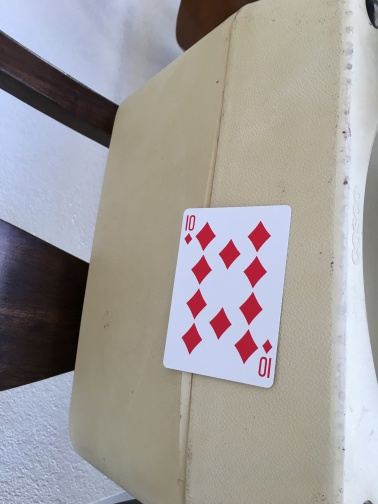ten: (162, 204, 293, 389)
